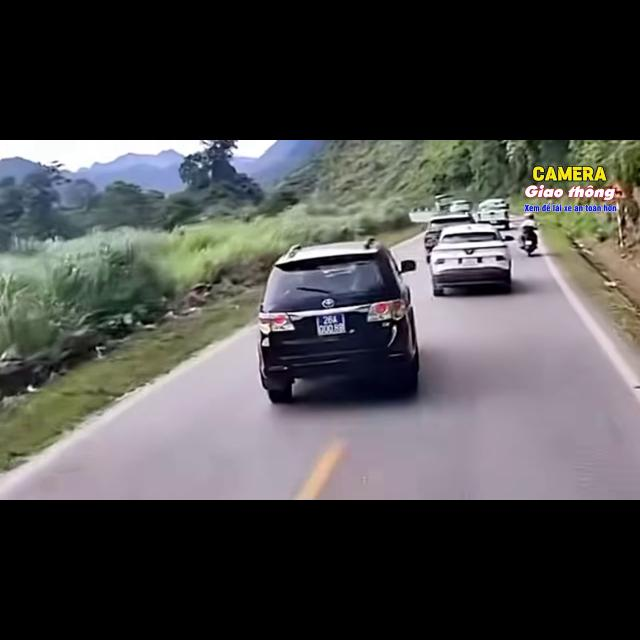car: (258, 238, 419, 403), (430, 224, 513, 296), (424, 213, 475, 262), (476, 199, 510, 229), (435, 194, 453, 212), (478, 198, 509, 208), (449, 200, 472, 212)
motorcycle: (521, 229, 537, 256)
